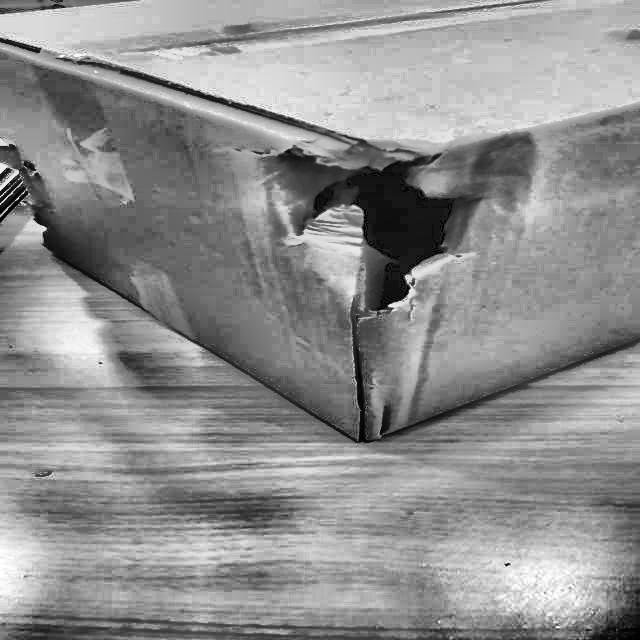box: (0, 0, 639, 464)
hole: (249, 124, 539, 324)
